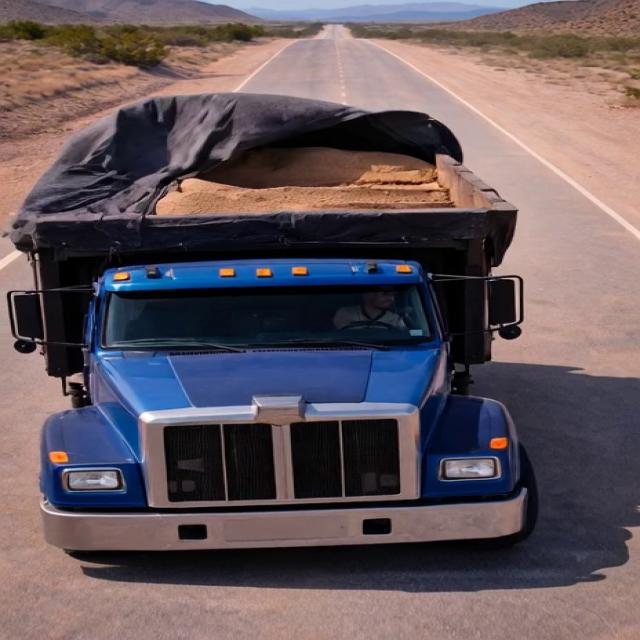trailer: (12, 86, 543, 232)
truck: (12, 69, 541, 570)
